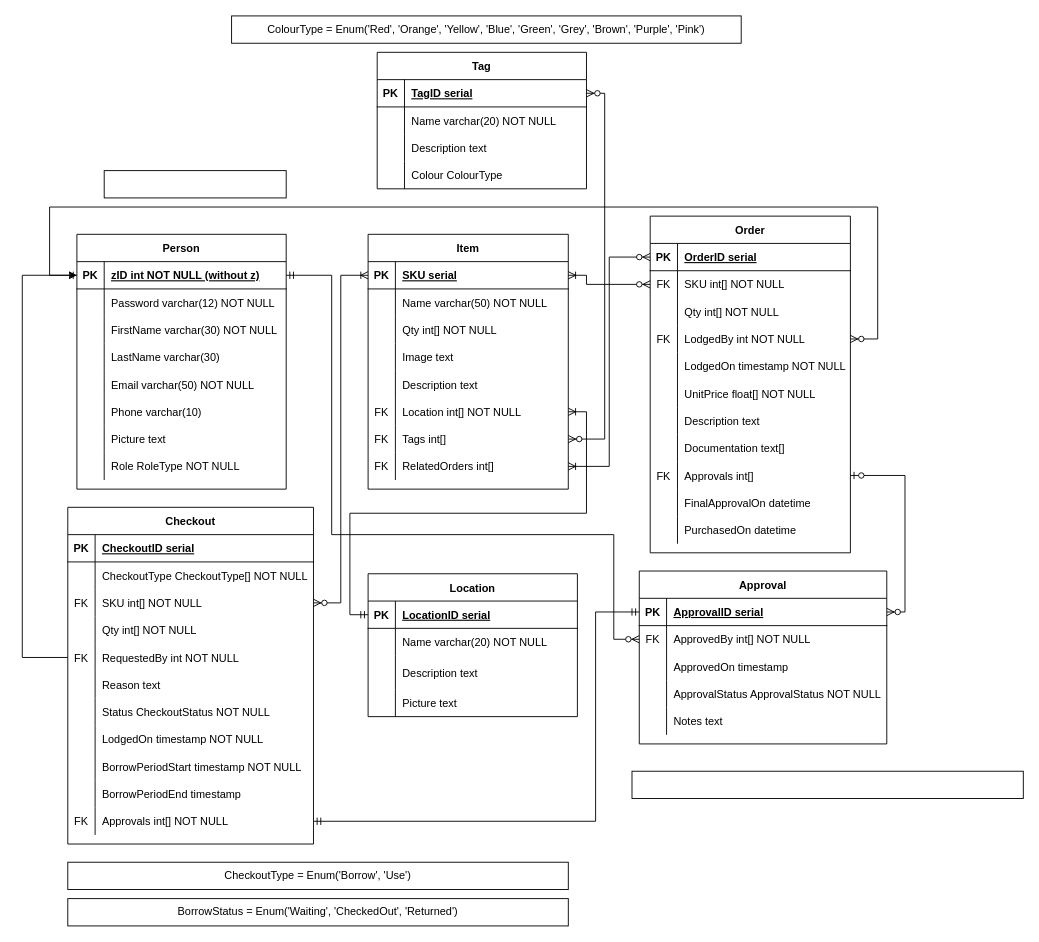
This 1039x942 diagram has some shape labels left out. The centre of each missing label's shape, as x and y in pixels:
"ApprovalStatus = Enum('PendingApproval', 'Approved', 'NotApproved')" goes at [827,784].
"RoleType = Enum('Admin', 'Member')" goes at [194,184].
